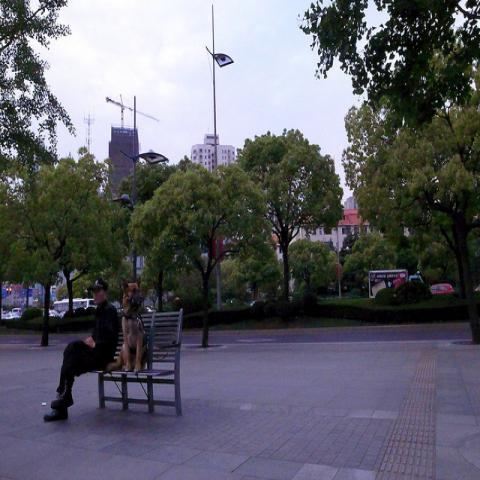car: (429, 284, 455, 295), (407, 276, 426, 284), (12, 308, 22, 316), (5, 314, 20, 318), (49, 310, 57, 316)
